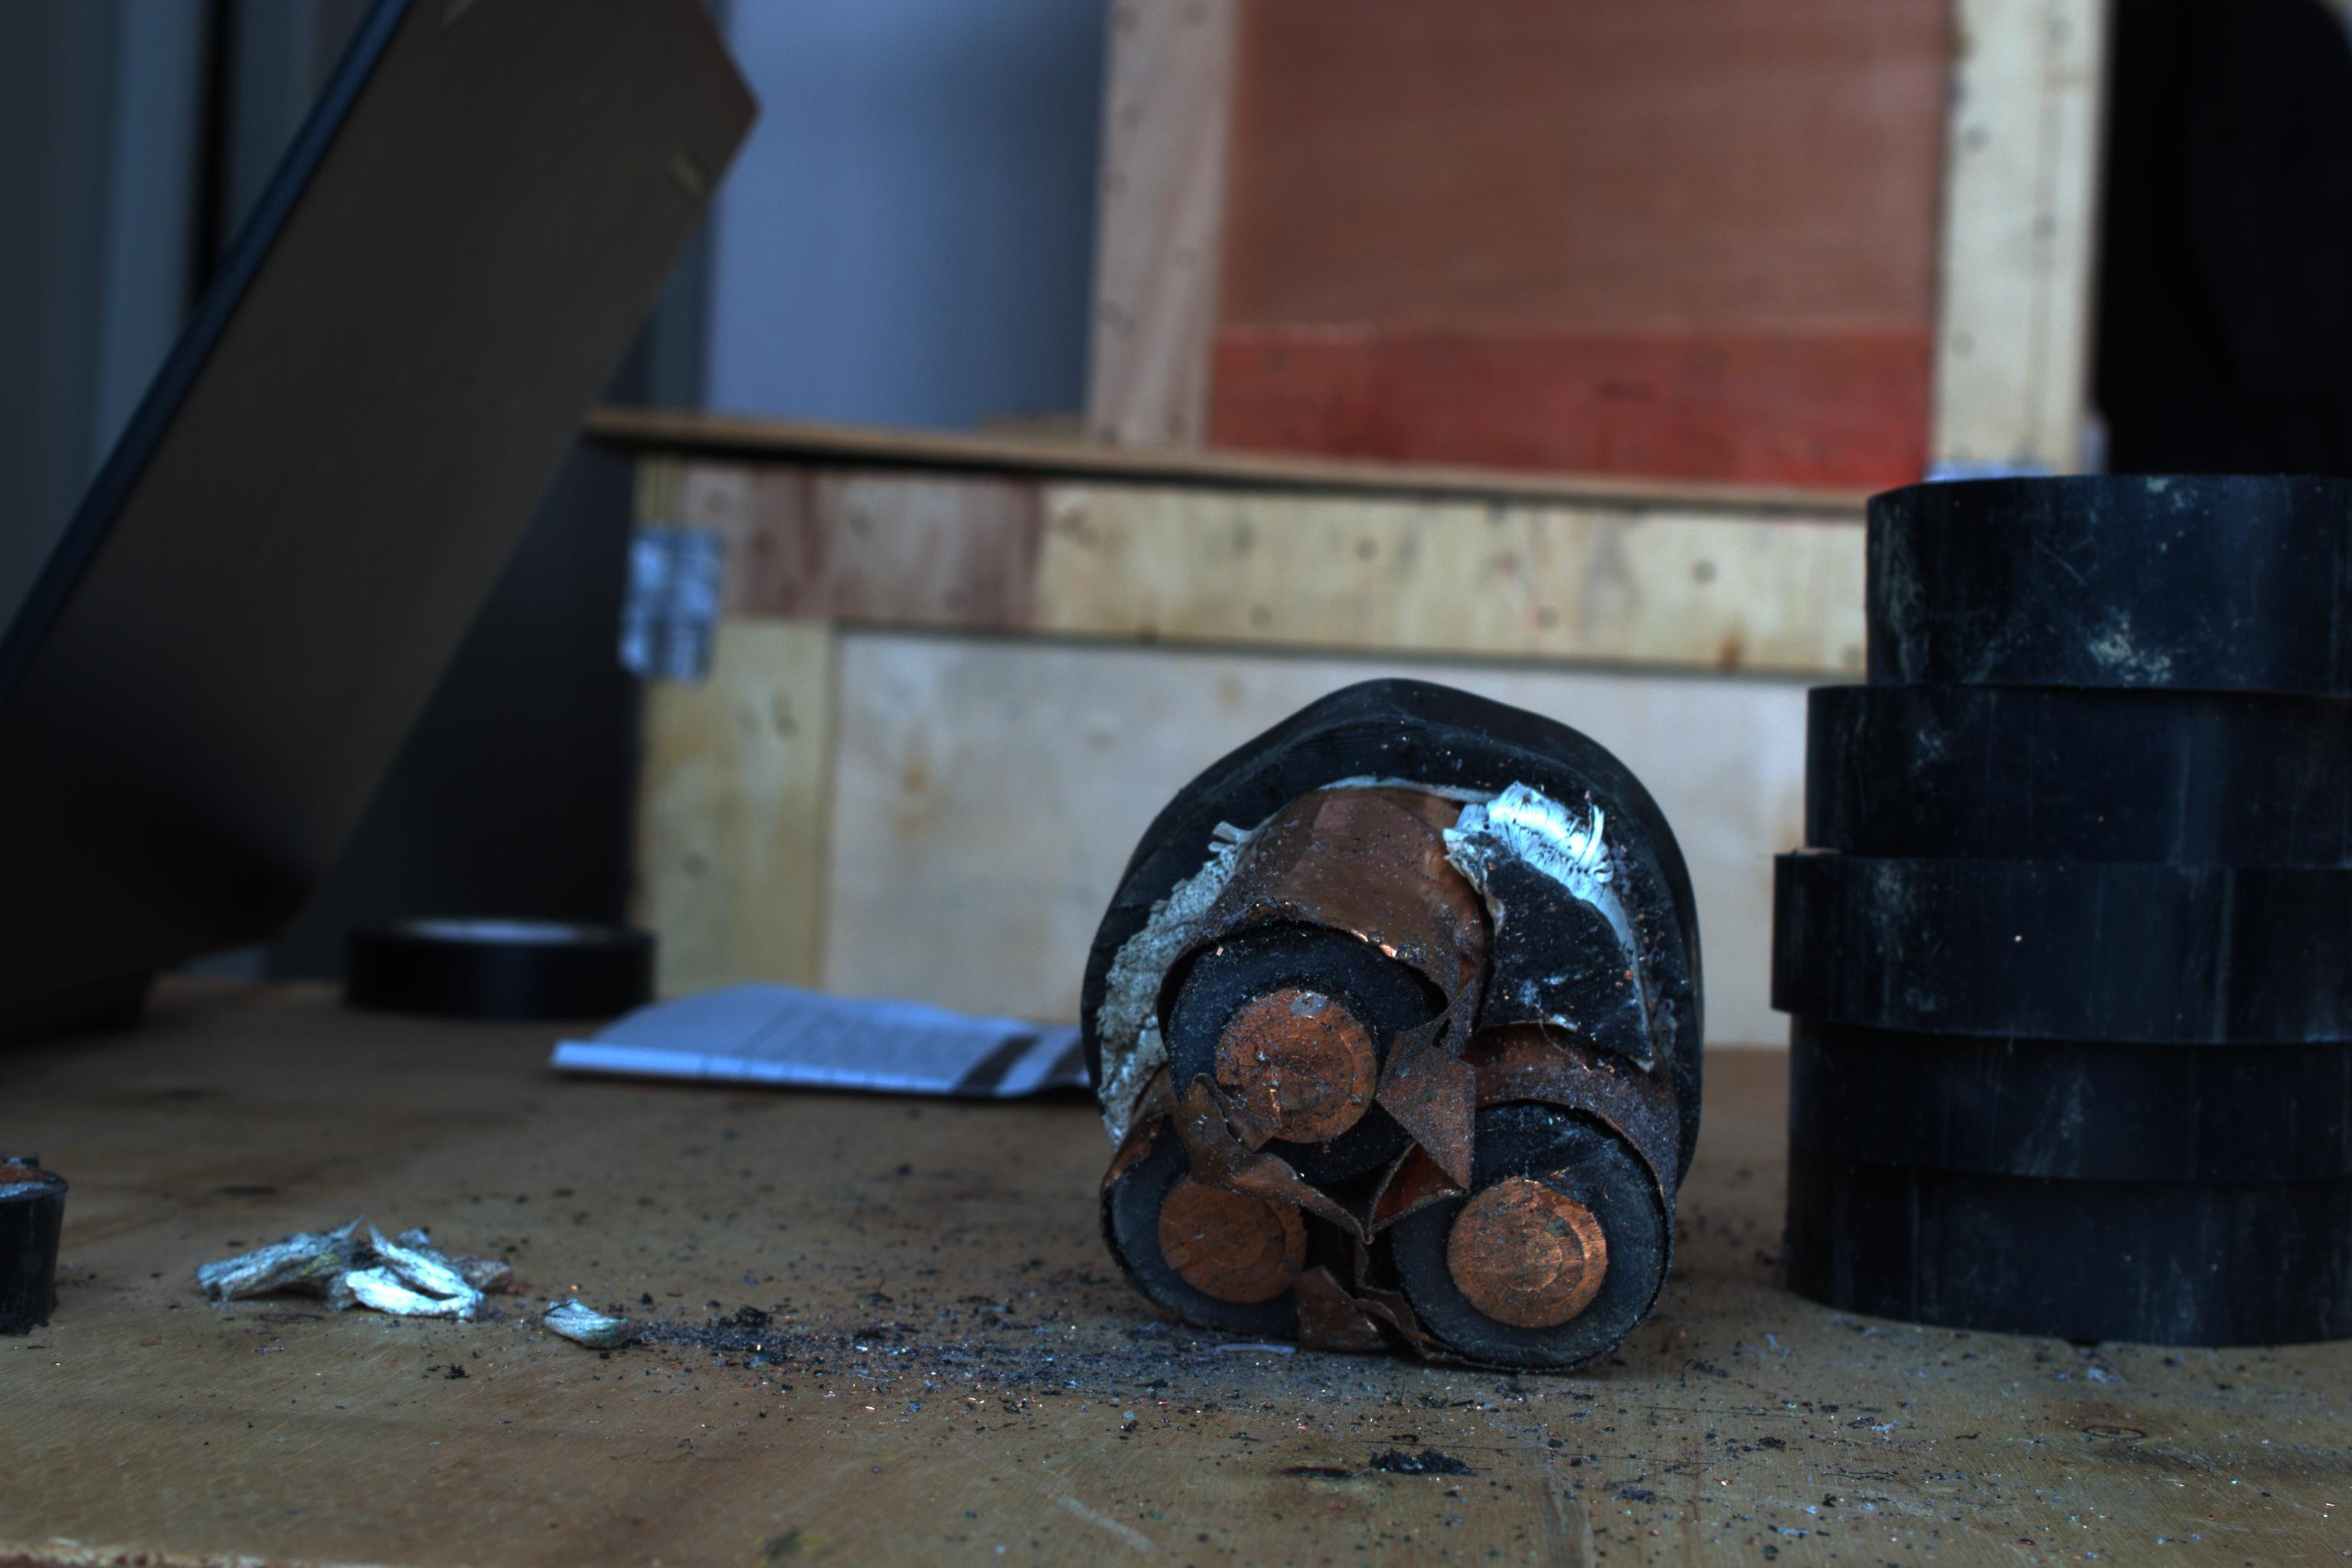ZA_YJV_8.7_10kV_3x240: (1092, 871, 1692, 1410)
